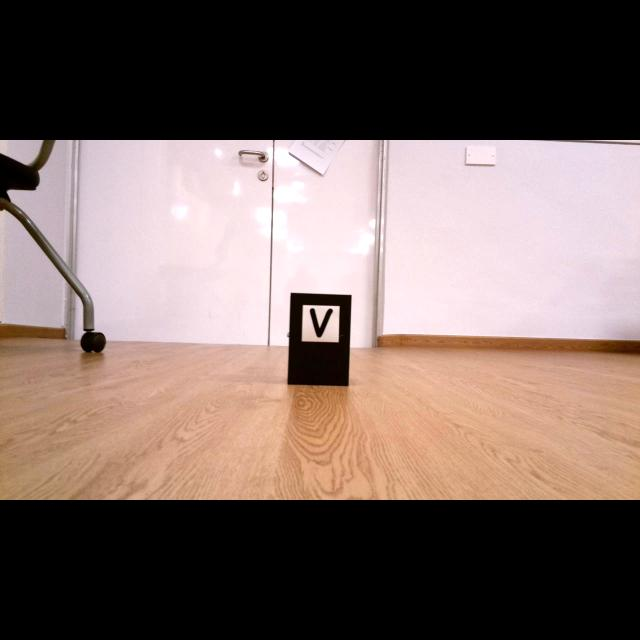V: (310, 308, 333, 338)
